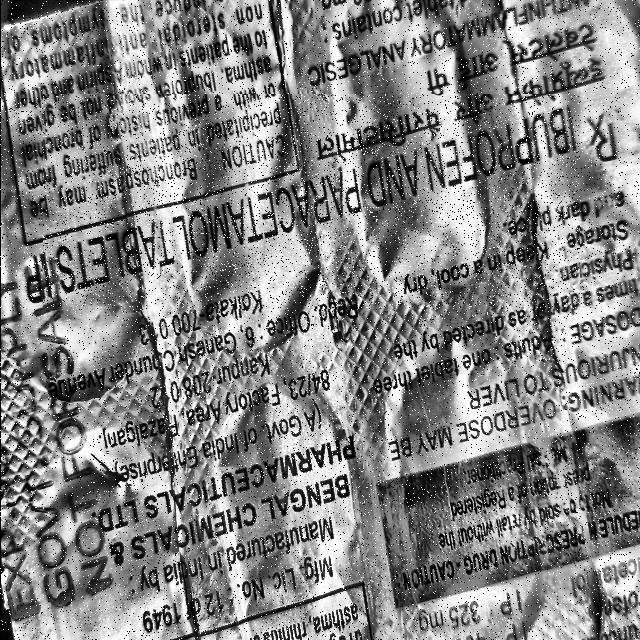IBUPROFEN AND PARACETAMOL TABLETS: (42, 95, 579, 308)
